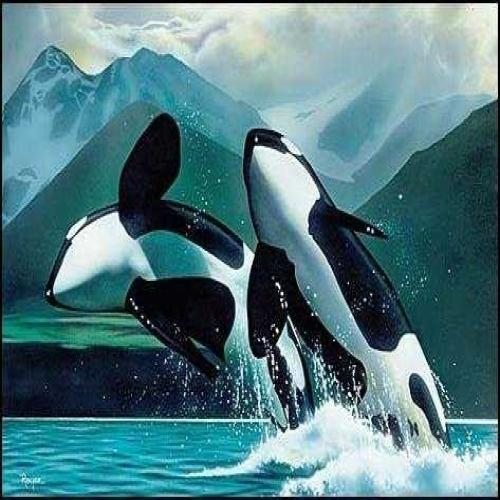killer_whale-endangered: (36, 107, 323, 447), (236, 93, 457, 464)
